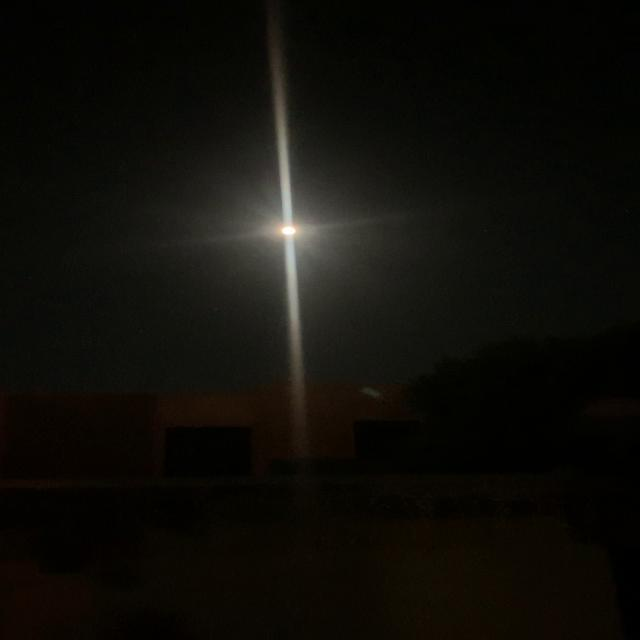moon: (276, 218, 321, 244)
